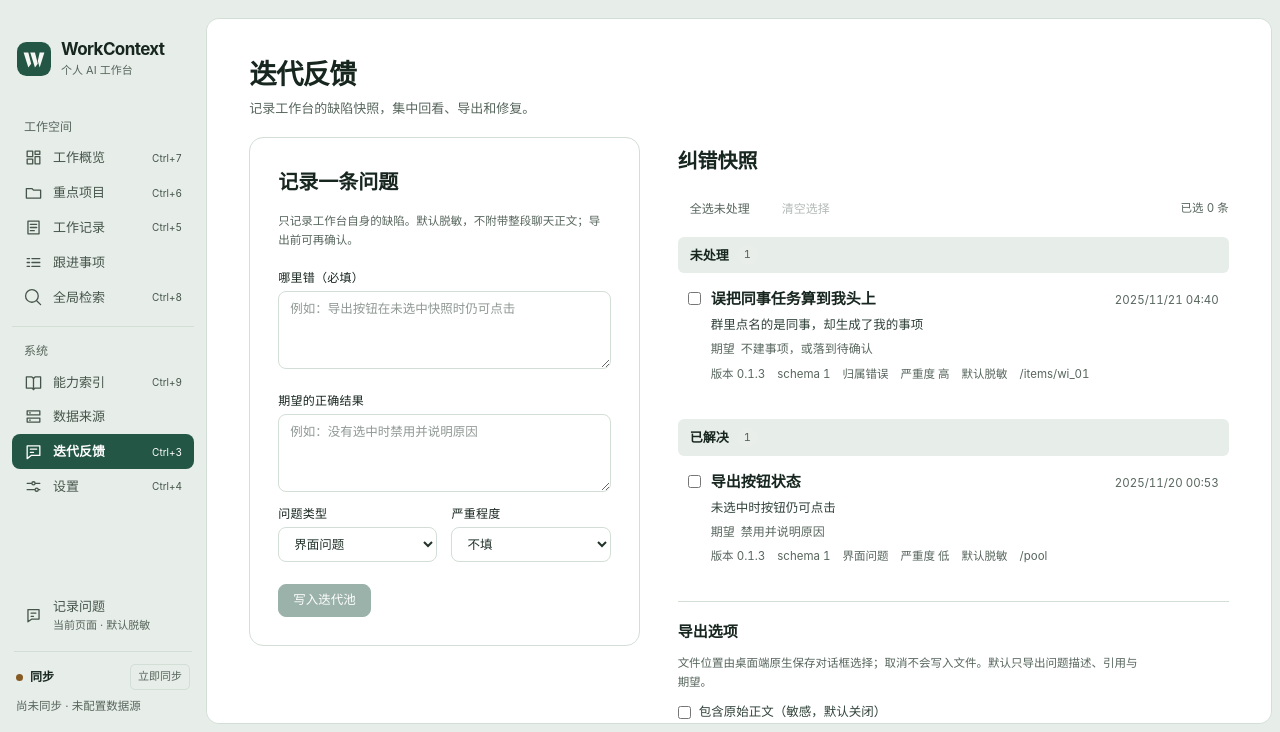
迭代池创建与导出 › 导出先选中快照，再传格式；取消不算成功
Expected: the text "误把同事任务算到我头上" is shown, [711, 288, 876, 312]
Click the checkbox named "选择 误把同事任务算到我头上".
click(694, 299)  # box [688, 292, 701, 306]
(page scrolled)
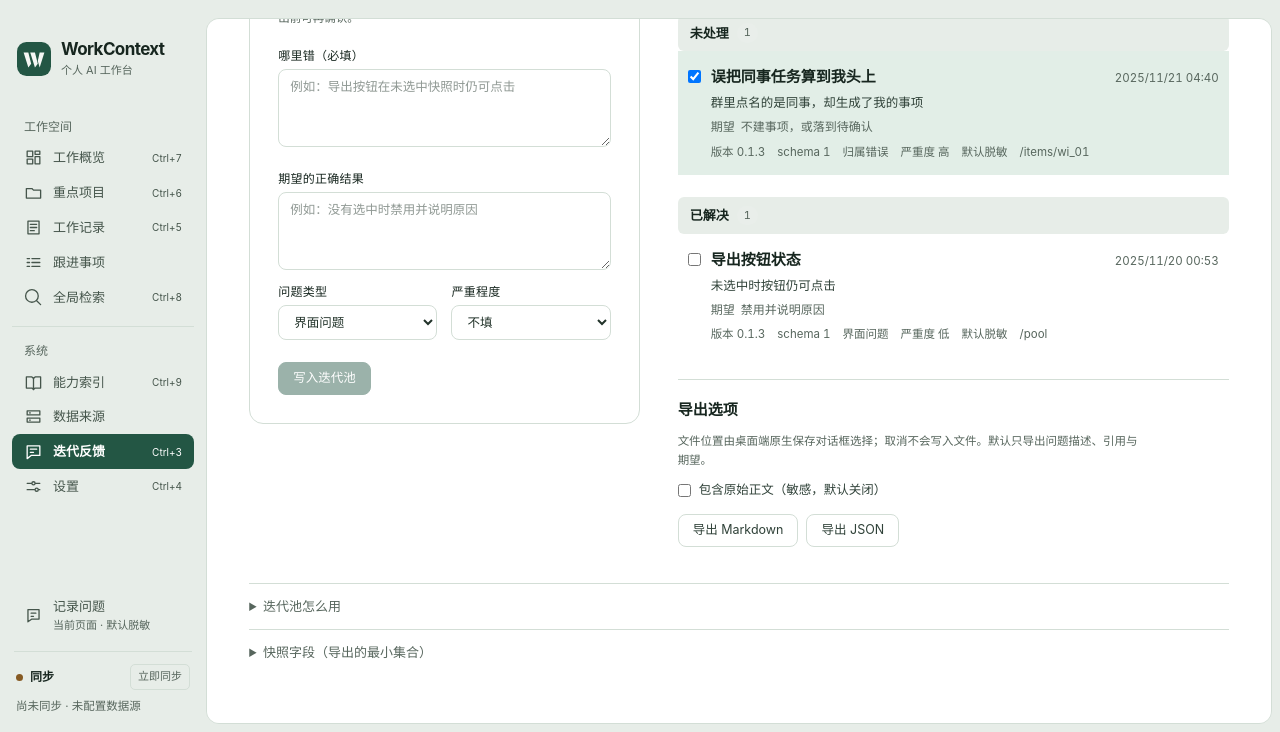
Click the button "导出 Markdown".
click(738, 531)  # box [678, 514, 798, 547]
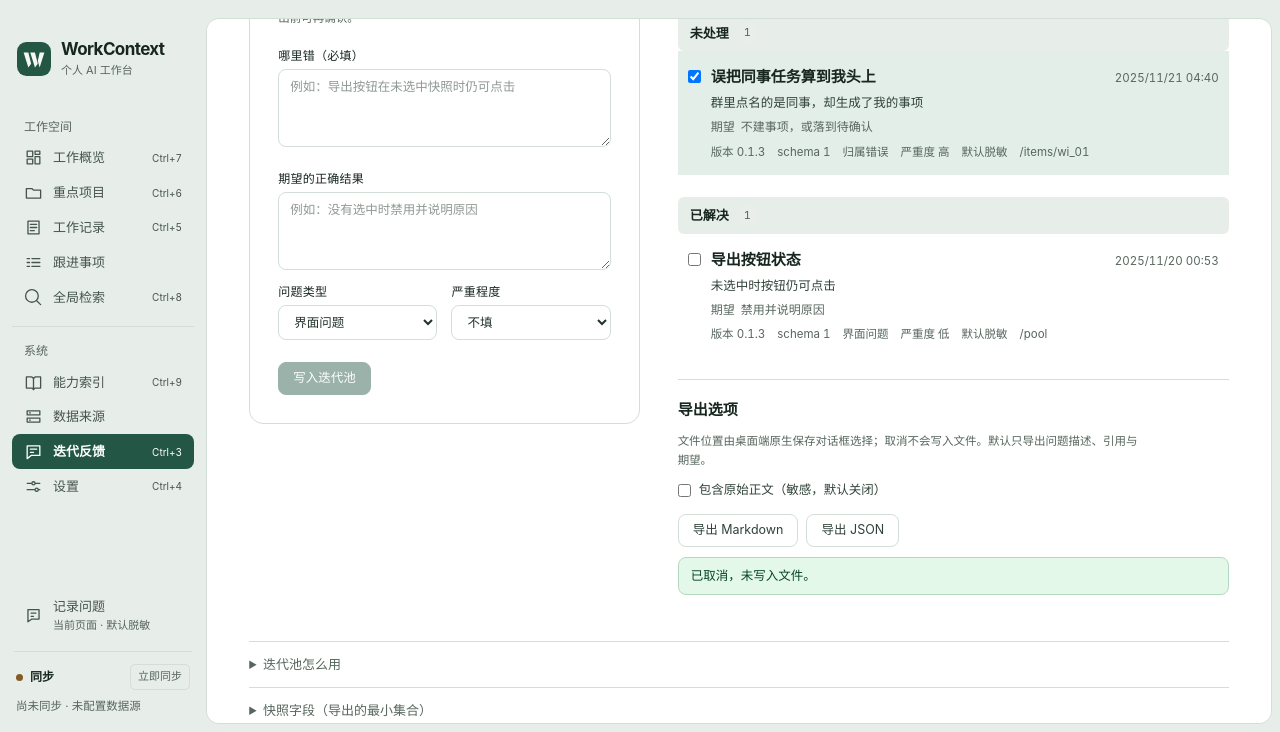
Expected: the text "已取消，未写入文件。" is shown, [678, 557, 1229, 595]
